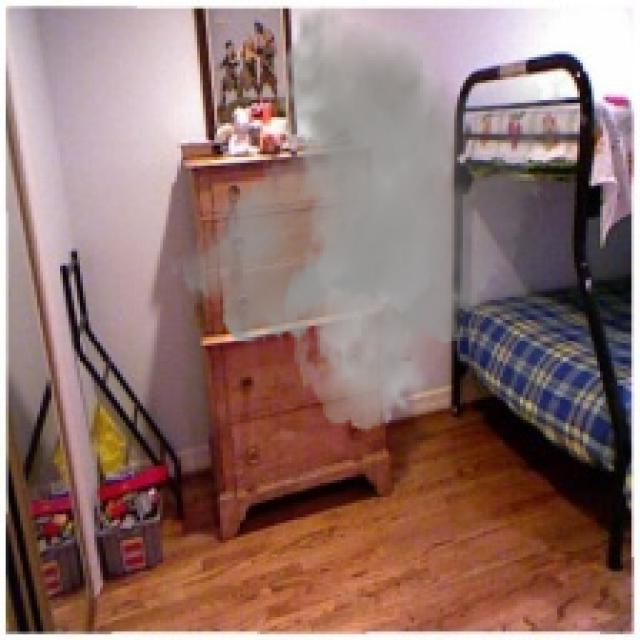smoke: (168, 6, 592, 431)
